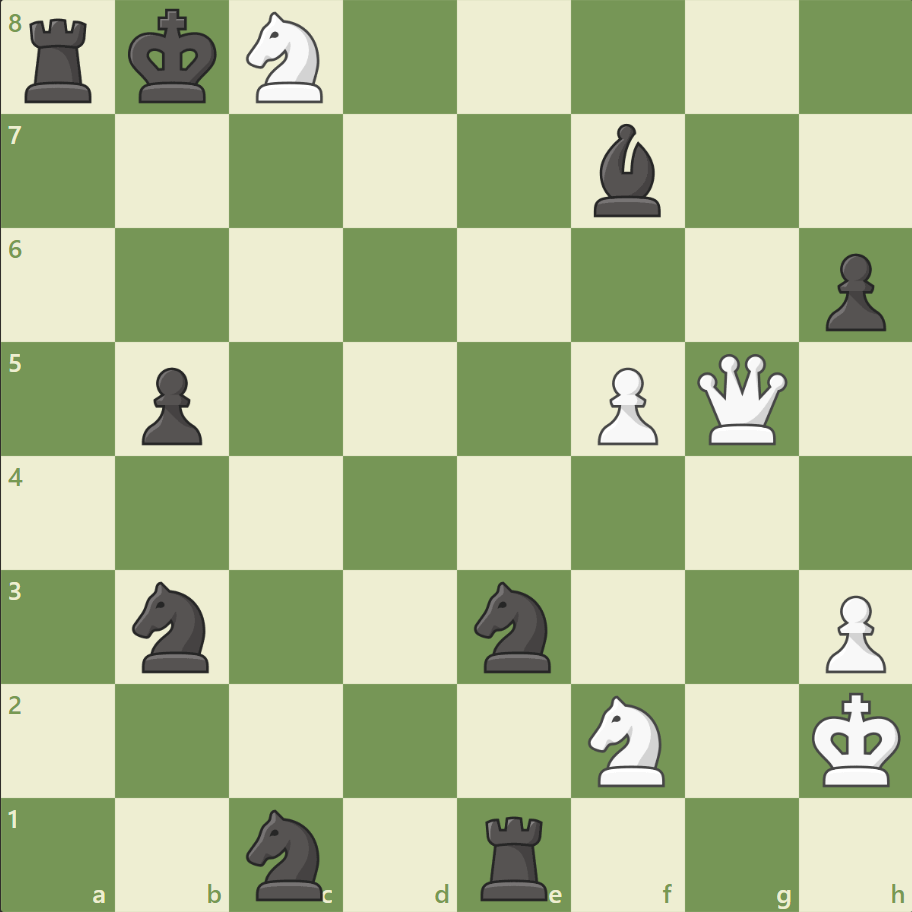K: (806, 685, 906, 793)
N: (238, 7, 335, 110), (579, 688, 676, 791)
P: (588, 359, 662, 450), (815, 586, 889, 677)
Q: (691, 349, 790, 449)
b: (585, 120, 669, 222)
k: (124, 4, 224, 112)
n: (124, 575, 222, 677), (465, 575, 562, 677), (238, 802, 335, 904)
p: (133, 359, 208, 450), (815, 246, 889, 337)
r: (473, 806, 556, 904), (19, 12, 102, 109)
